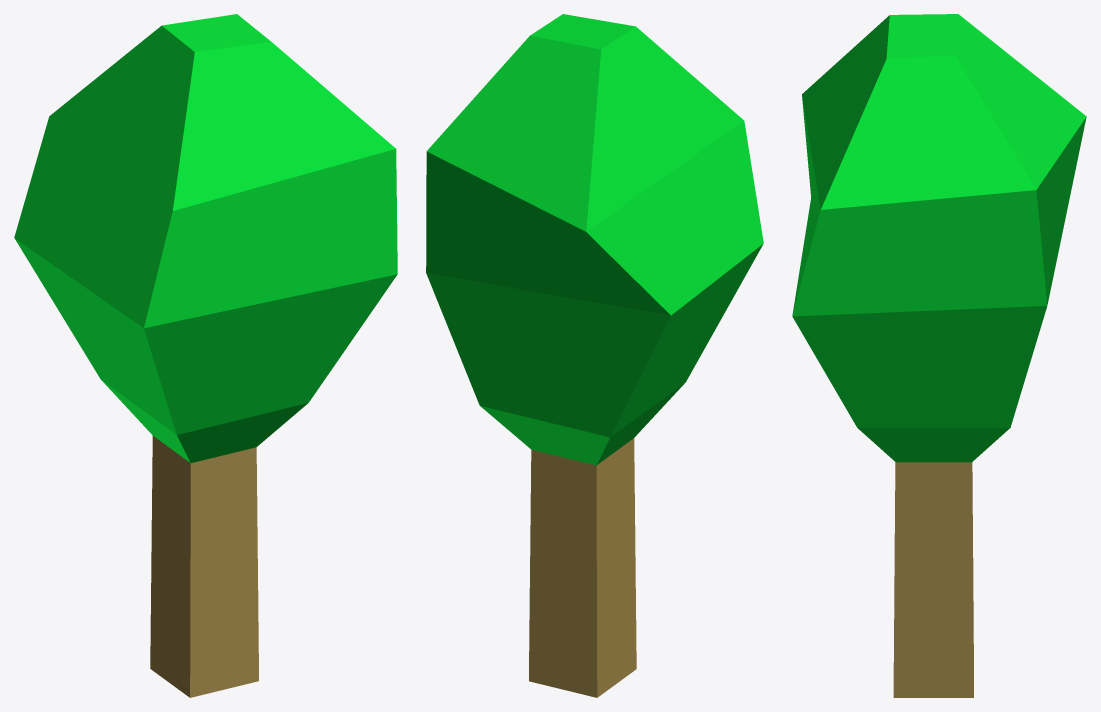
File: Tree.fbx
3 views of the same model, side by side, from view 1: azimuth 30°, elevation 25°; view 2: azimuth 150°, elevation 25°; view 3: azimuth 270°, elevation 25° (orthographic).
Parts seen in each view (by area): view 1: Cube.002; view 2: Cube.002; view 3: Cube.002.
Part boxes in pixels (left/top/right/bottom): Cube.002: left=14, top=14, right=397, bottom=697; Cube.002: left=426, top=14, right=763, bottom=697; Cube.002: left=792, top=14, right=1086, bottom=697.
Bounding box in the file's own units: 206 × 223 × 503.
